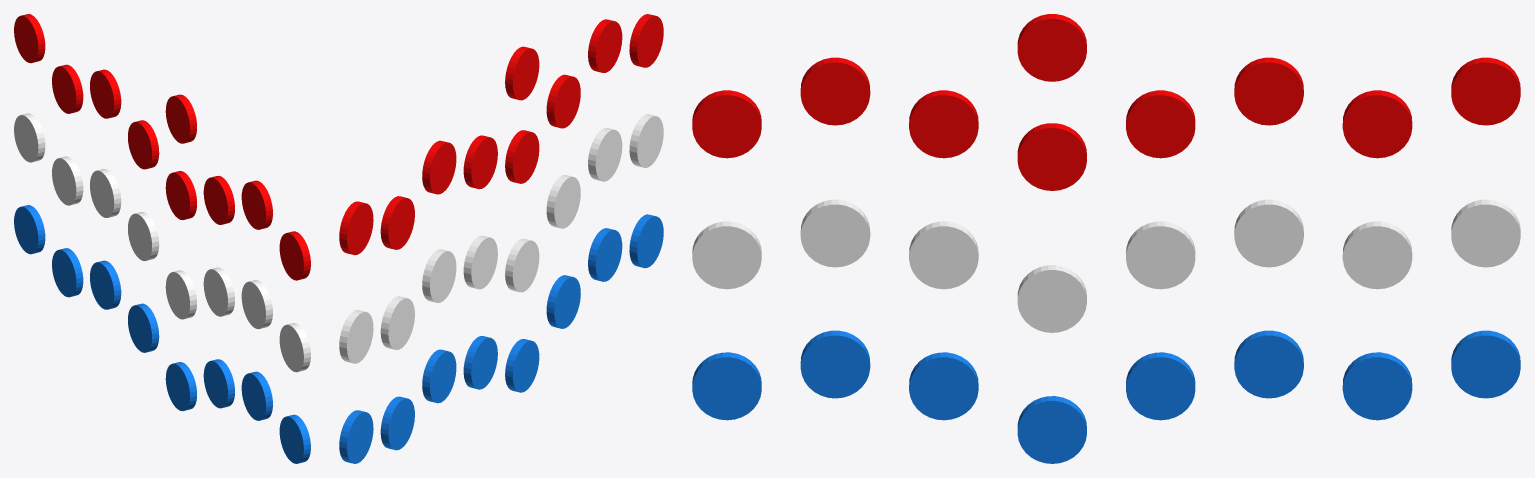
File: Statue02.fbx
The picture shows the model from 3 angles, left to right: view 1: azimuth 30°, elevation 25°; view 2: azimuth 150°, elevation 25°; view 3: azimuth 270°, elevation 25°; orthographic projection. The views are drawn at different scales.
Parts seen in each view (by area): view 1: Lamp_red Mesh (1), green Mesh (1), blue Mesh (1); view 2: Lamp_red Mesh (1), blue Mesh (1), green Mesh (1); view 3: Lamp_red Mesh (1), green Mesh (1), blue Mesh (1).
Boxes of the visible parts, left/top/right/bottom form: Lamp_red Mesh (1): left=14, top=14, right=310, bottom=280; green Mesh (1): left=14, top=113, right=310, bottom=372; blue Mesh (1): left=14, top=205, right=310, bottom=463; Lamp_red Mesh (1): left=339, top=14, right=663, bottom=255; blue Mesh (1): left=339, top=214, right=663, bottom=463; green Mesh (1): left=339, top=114, right=663, bottom=363; Lamp_red Mesh (1): left=692, top=14, right=1520, bottom=190; green Mesh (1): left=692, top=199, right=1520, bottom=332; blue Mesh (1): left=692, top=330, right=1520, bottom=463.
Size of the model in its own units: 0.2417 by 10.19 by 17.19.
